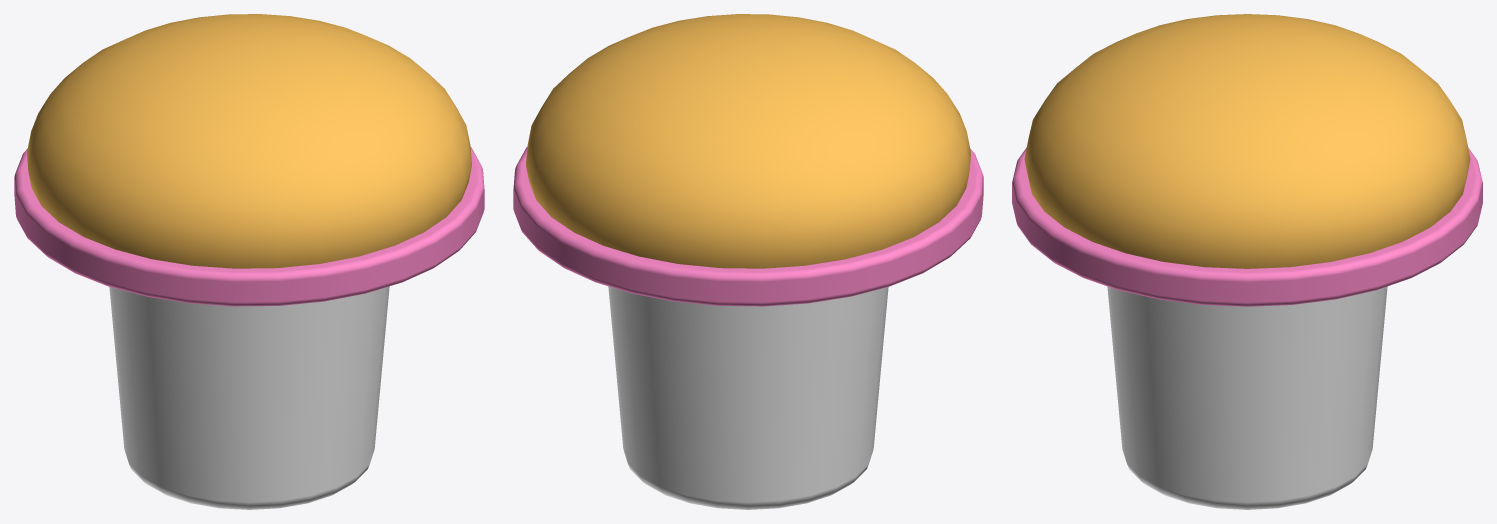
File: bumper.glb
3 views of the same model, side by side, from view 1: azimuth 30°, elevation 25°; view 2: azimuth 150°, elevation 25°; view 3: azimuth 270°, elevation 25° (orthographic).
Visible parts, largest first — view 1: BumperHead, BumperStem, BumperRing; view 2: BumperHead, BumperStem, BumperRing; view 3: BumperHead, BumperStem, BumperRing.
Part boxes in pixels (bbox=[...]): BumperHead: bbox=[27, 14, 471, 268]; BumperStem: bbox=[109, 286, 389, 509]; BumperRing: bbox=[14, 147, 484, 306]; BumperHead: bbox=[526, 14, 970, 268]; BumperStem: bbox=[608, 286, 888, 509]; BumperRing: bbox=[513, 147, 983, 306]; BumperHead: bbox=[1024, 14, 1470, 268]; BumperStem: bbox=[1107, 286, 1387, 509]; BumperRing: bbox=[1012, 148, 1482, 306].
Bounding box in the file's own units: 1.9 × 1.85 × 1.9.
